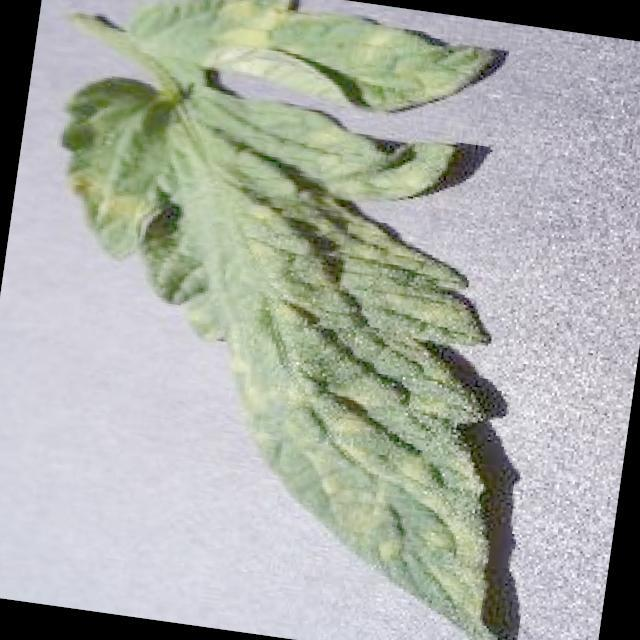Tomato mold leaf: (0, 73, 564, 640), (128, 0, 499, 130)
